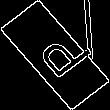P_SW: (21, 25, 89, 85)
